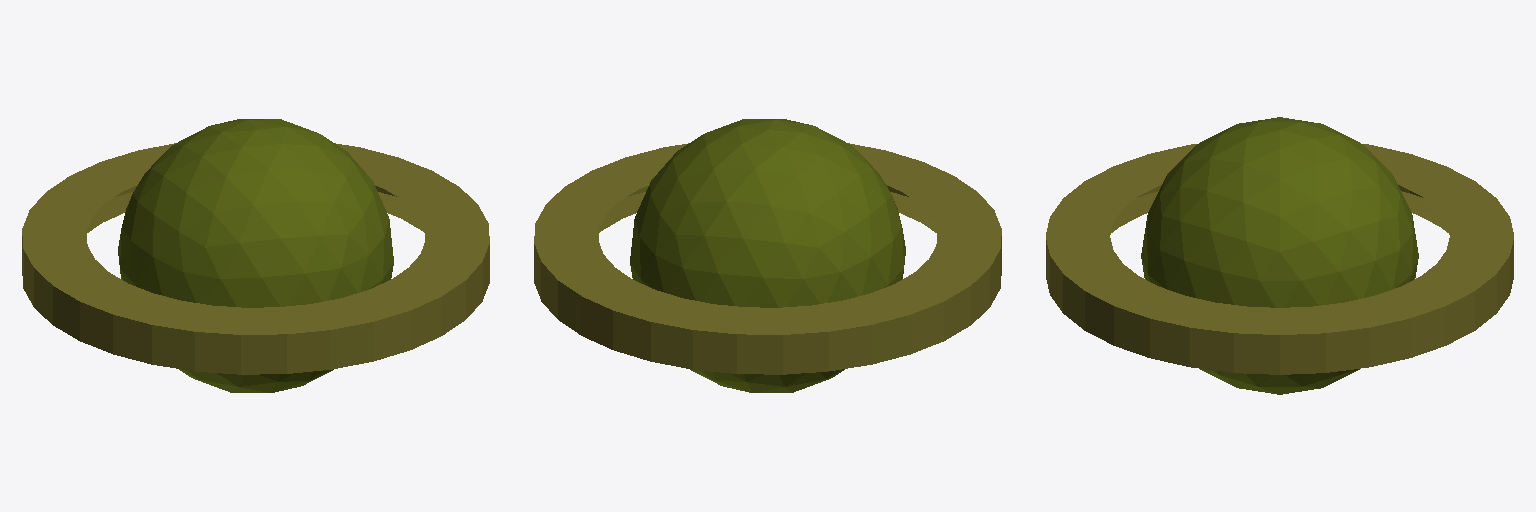
Rendered from Saturn.obj.
The picture shows the model from 3 angles: view 1: azimuth 30°, elevation 25°; view 2: azimuth 150°, elevation 25°; view 3: azimuth 270°, elevation 25°; orthographic projection.
Parts seen in each view (by area): view 1: Cylinder, Icosphere_Icosphere.001; view 2: Cylinder, Icosphere_Icosphere.001; view 3: Cylinder, Icosphere_Icosphere.001.
Part boxes in pixels (x1,y1,x2,y2): Cylinder: (22,143,489,374); Icosphere_Icosphere.001: (118,119,393,392); Cylinder: (534,143,1001,374); Icosphere_Icosphere.001: (630,119,905,392); Cylinder: (1046,144,1513,374); Icosphere_Icosphere.001: (1141,117,1418,394).
Bounding box in the file's own units: 3.37 × 2 × 3.37.